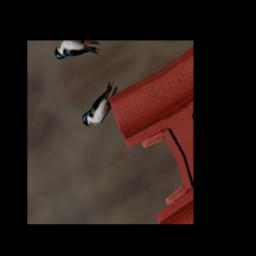Swallow: (75, 79, 126, 133)
